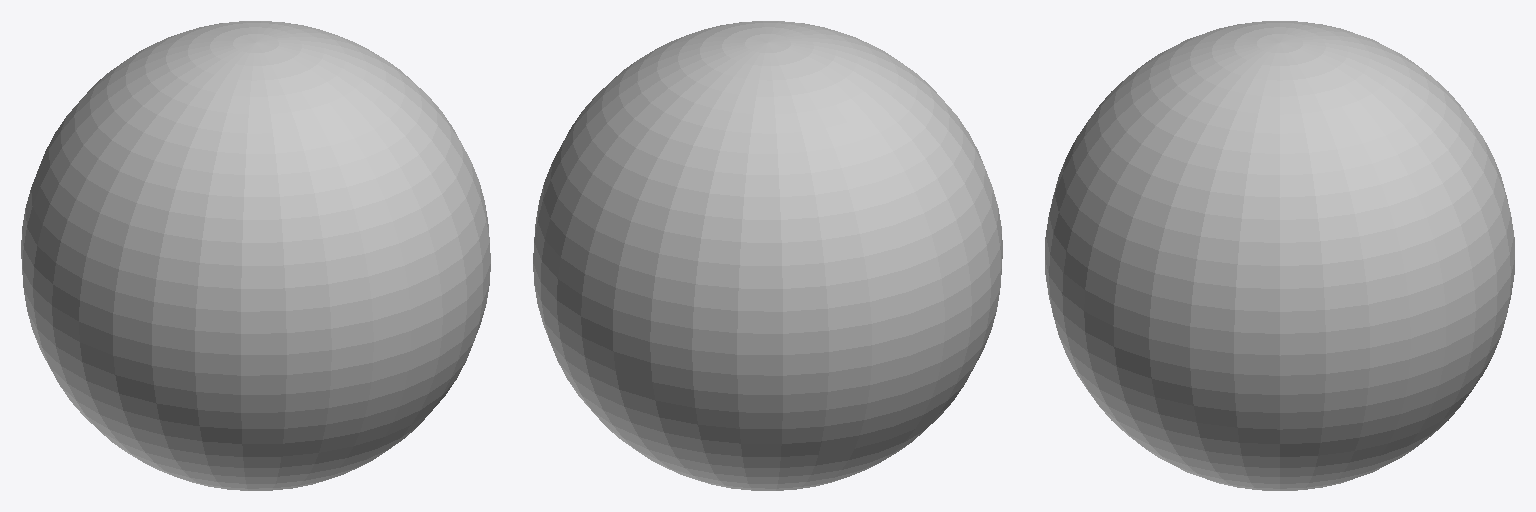
Rendered from Esfera.obj.
The picture shows the model from 3 angles: view 1: azimuth 30°, elevation 25°; view 2: azimuth 150°, elevation 25°; view 3: azimuth 270°, elevation 25°; orthographic projection.
Size of the model in its own units: 2 by 2 by 2.